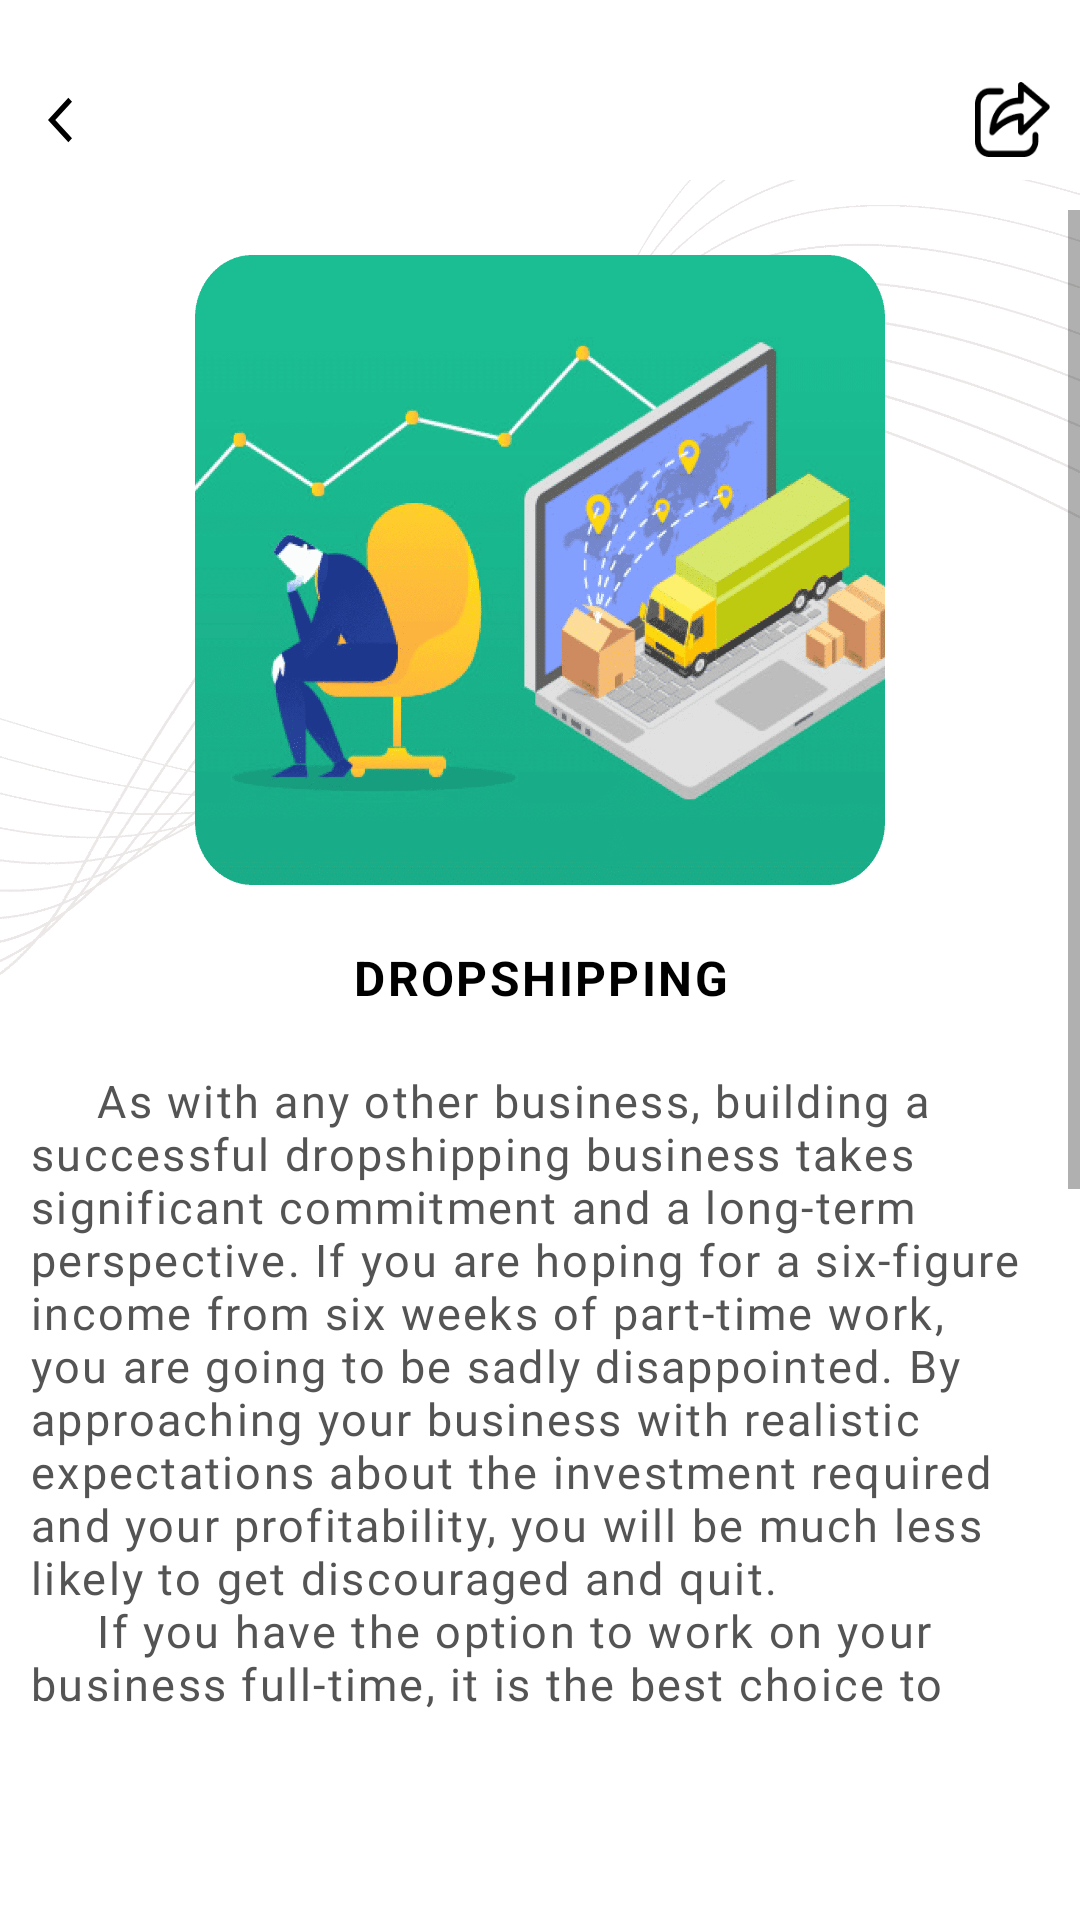

Where icons sit on this 1080px x 1920px app screen, as (x1, y1, x2, y2):
share: (975, 82, 1050, 157)
